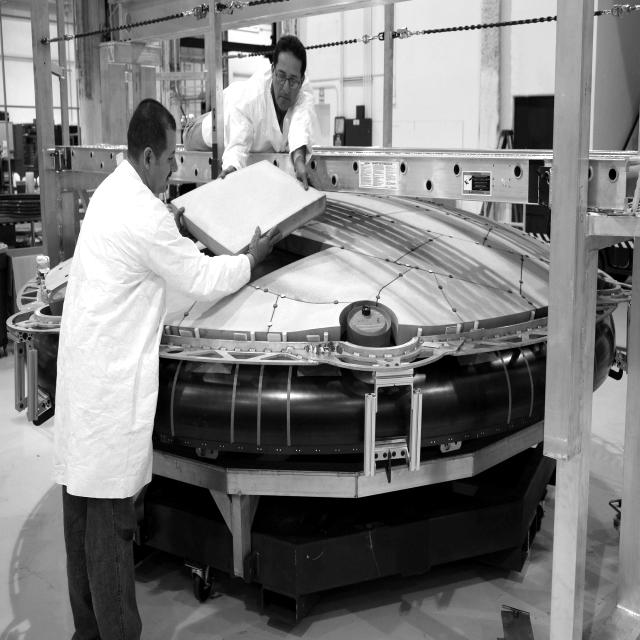No-Boots: (56, 166, 156, 500)
